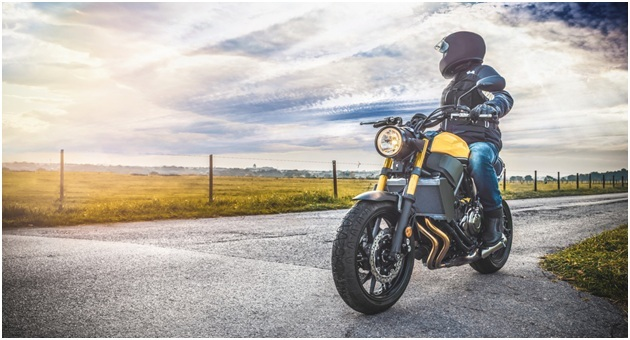Bike: (316, 93, 515, 317)
